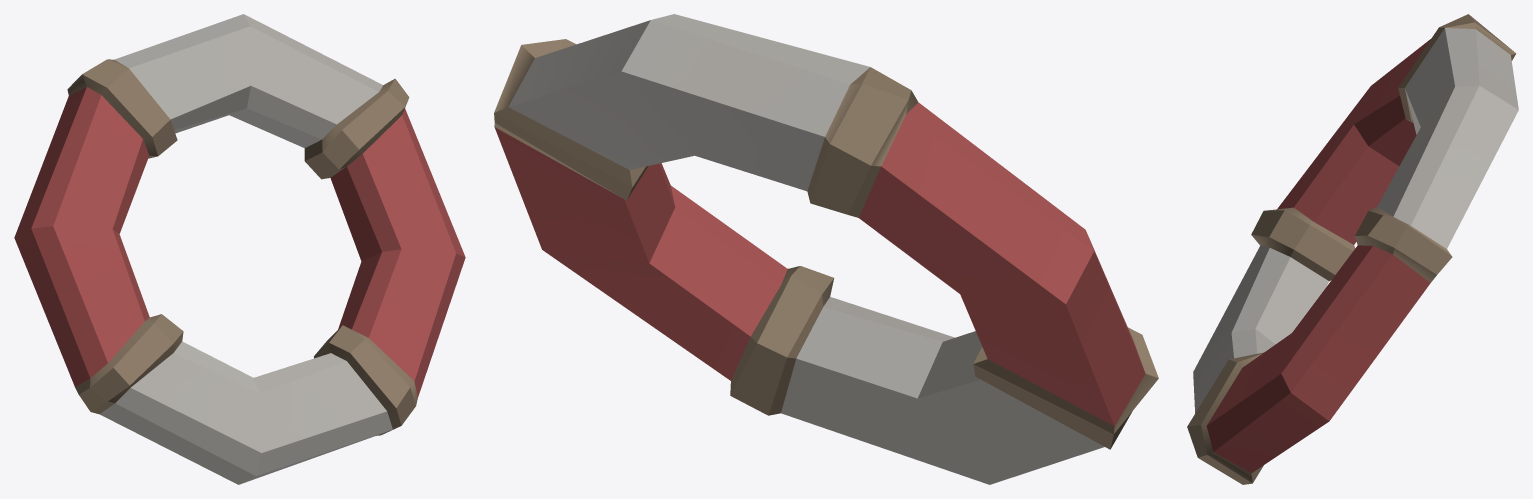
The model's file is overboard.fbx.
3 renders of one model, left to right at view 1: azimuth 30°, elevation 25°; view 2: azimuth 150°, elevation 25°; view 3: azimuth 270°, elevation 25°, orthographic. The views are drawn at different scales.
Parts seen in each view (by area): view 1: overboard; view 2: overboard; view 3: overboard.
Part boxes in pixels (box(x1,y1,x2,y2)): overboard: box(14, 14, 465, 484); overboard: box(494, 14, 1158, 484); overboard: box(1187, 14, 1518, 484).
Bounding box in the file's own units: 1.98 × 1.73 × 1.31.
Materials: 1 (1 with a texture image).
